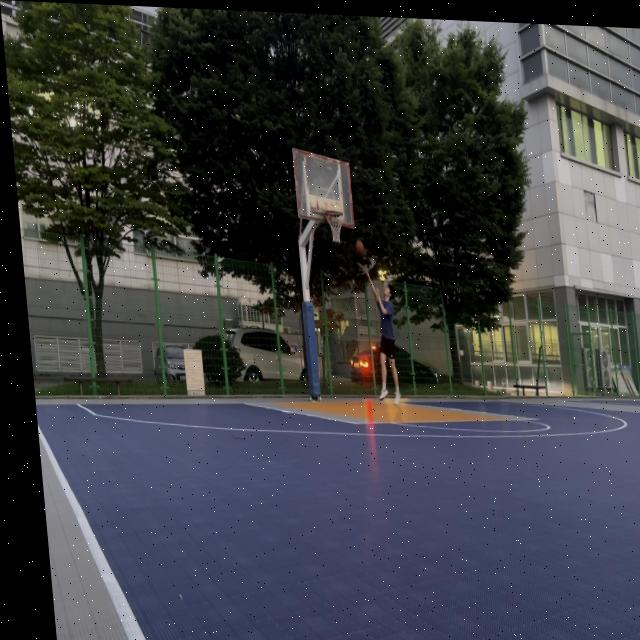basketball: (354, 239, 366, 258)
hoop: (325, 210, 346, 244)
